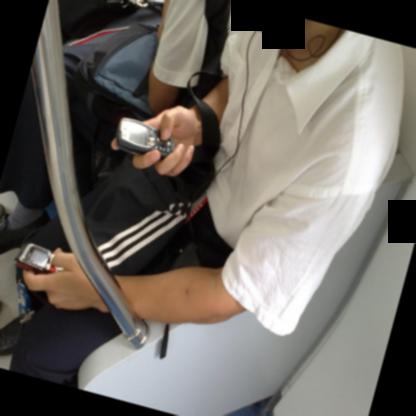backpack: (69, 18, 163, 121)
